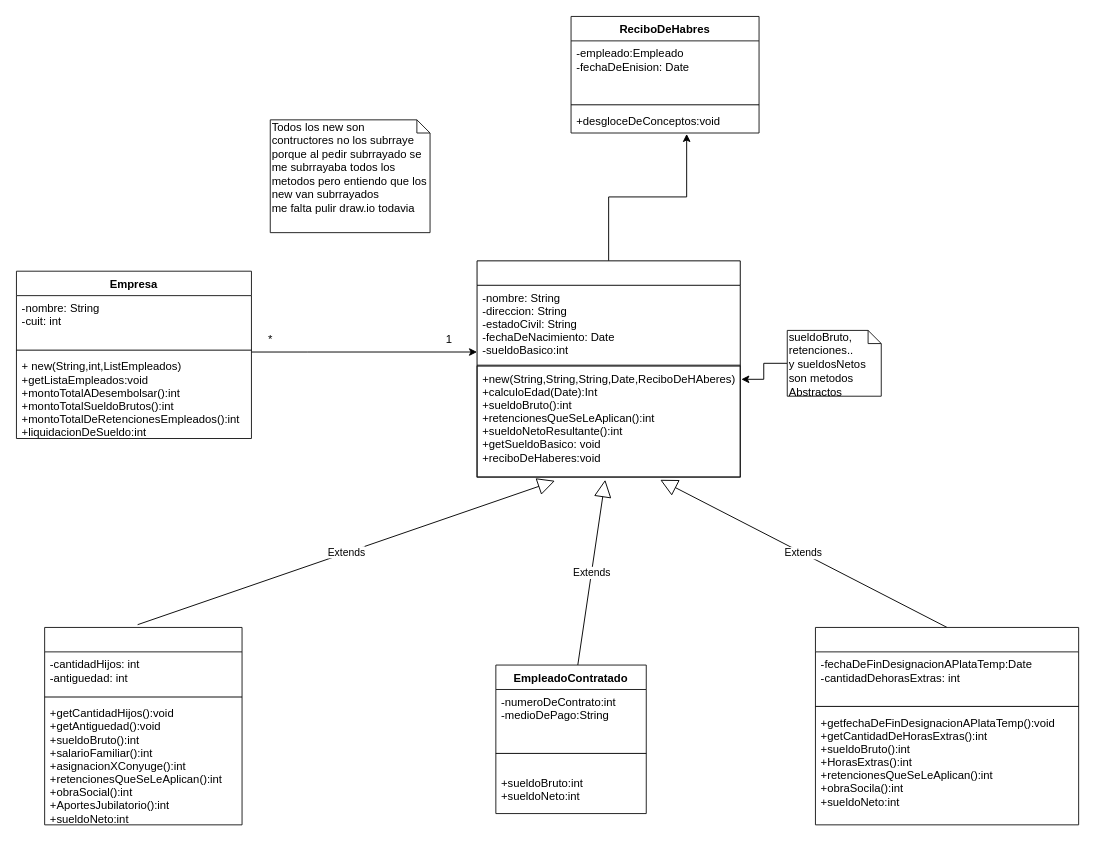
Image size: 1095x844. Some labels were removed from this diagram. The shapes that lost their labels are listed below. From the top down, each one's box as (x1, y1, x2, y2) in pixels, then its label:
(476, 260, 740, 477): ClaseAbstractaEmpleado
(44, 627, 242, 825): EmpleadoPlantaPermanente
(815, 627, 1079, 825): EmpleadoTemporaria
